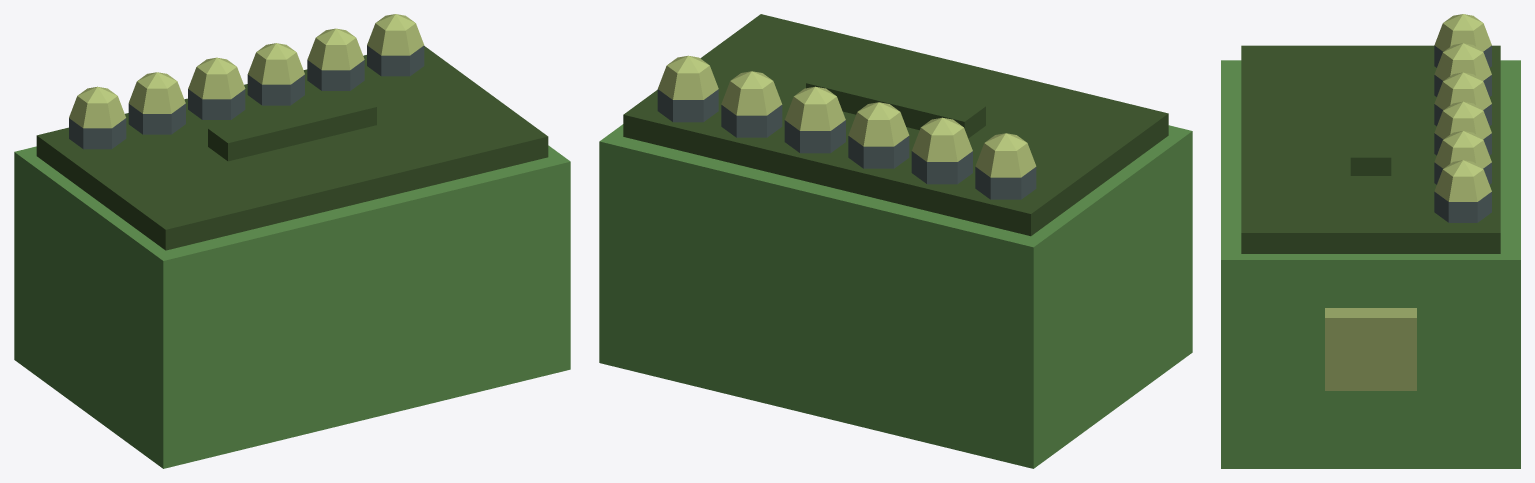
Rendered from ce_ammo2_grenade_tox_c.obj.
3 renders of one model, left to right at view 1: azimuth 30°, elevation 25°; view 2: azimuth 150°, elevation 25°; view 3: azimuth 270°, elevation 25°, orthographic. The views are drawn at different scales.
Parts seen in each view (by area): view 1: ce_ammo2_grenade_tox_c_0, ce_ammo2_grenade_tox_c_1, ce_ammo2_grenade_tox_c_2, ce_ammo2_grenade_tox_c_17, ce_ammo2_grenade_tox_c_5, ce_ammo2_grenade_tox_c_11, ce_ammo2_grenade_tox_c_14, ce_ammo2_grenade_tox_c_20, ce_ammo2_grenade_tox_c_8, ce_ammo2_grenade_tox_c_13, ce_ammo2_grenade_tox_c_19, ce_ammo2_grenade_tox_c_4 (+3 smaller); view 2: ce_ammo2_grenade_tox_c_0, ce_ammo2_grenade_tox_c_1, ce_ammo2_grenade_tox_c_2, ce_ammo2_grenade_tox_c_11, ce_ammo2_grenade_tox_c_17, ce_ammo2_grenade_tox_c_5, ce_ammo2_grenade_tox_c_20, ce_ammo2_grenade_tox_c_14, ce_ammo2_grenade_tox_c_8, ce_ammo2_grenade_tox_c_4, ce_ammo2_grenade_tox_c_7, ce_ammo2_grenade_tox_c_13 (+3 smaller); view 3: ce_ammo2_grenade_tox_c_0, ce_ammo2_grenade_tox_c_1, ce_ammo2_grenade_tox_c_3, ce_ammo2_grenade_tox_c_2, ce_ammo2_grenade_tox_c_20, ce_ammo2_grenade_tox_c_19, ce_ammo2_grenade_tox_c_5, ce_ammo2_grenade_tox_c_17, ce_ammo2_grenade_tox_c_14, ce_ammo2_grenade_tox_c_11, ce_ammo2_grenade_tox_c_8, ce_ammo2_grenade_tox_c_15 (+5 smaller).
Part boxes in pixels (x1,y1,x2,y2): ce_ammo2_grenade_tox_c_0: (14,145,570,468); ce_ammo2_grenade_tox_c_1: (36,46,548,250); ce_ammo2_grenade_tox_c_2: (208,92,376,161); ce_ammo2_grenade_tox_c_17: (307,38,364,70); ce_ammo2_grenade_tox_c_5: (69,96,125,128); ce_ammo2_grenade_tox_c_11: (188,67,245,99); ce_ammo2_grenade_tox_c_14: (248,52,304,84); ce_ammo2_grenade_tox_c_20: (367,23,423,55); ce_ammo2_grenade_tox_c_8: (128,81,185,113); ce_ammo2_grenade_tox_c_13: (247,74,304,105); ce_ammo2_grenade_tox_c_19: (367,45,424,76); ce_ammo2_grenade_tox_c_4: (69,118,126,149); ce_ammo2_grenade_tox_c_0: (599,124,1192,468); ce_ammo2_grenade_tox_c_1: (623,14,1168,236); ce_ammo2_grenade_tox_c_2: (806,67,985,138); ce_ammo2_grenade_tox_c_11: (848,112,909,146); ce_ammo2_grenade_tox_c_17: (721,81,782,115); ce_ammo2_grenade_tox_c_5: (975,143,1036,177); ce_ammo2_grenade_tox_c_20: (658,65,718,99); ce_ammo2_grenade_tox_c_14: (785,96,845,130); ce_ammo2_grenade_tox_c_8: (912,128,972,161); ce_ammo2_grenade_tox_c_4: (975,166,1036,199); ce_ammo2_grenade_tox_c_7: (911,151,972,184); ce_ammo2_grenade_tox_c_13: (784,120,845,153); ce_ammo2_grenade_tox_c_0: (1221,60,1520,468); ce_ammo2_grenade_tox_c_1: (1241,45,1500,253); ce_ammo2_grenade_tox_c_3: (1325,308,1416,390); ce_ammo2_grenade_tox_c_2: (1350,84,1391,175); ce_ammo2_grenade_tox_c_20: (1434,169,1491,201); ce_ammo2_grenade_tox_c_19: (1434,191,1491,222); ce_ammo2_grenade_tox_c_5: (1434,23,1491,51); ce_ammo2_grenade_tox_c_17: (1434,140,1491,168); ce_ammo2_grenade_tox_c_14: (1434,111,1491,139); ce_ammo2_grenade_tox_c_11: (1434,82,1491,110); ce_ammo2_grenade_tox_c_8: (1434,52,1491,80); ce_ammo2_grenade_tox_c_15: (1443,101,1483,118).
Size of the model in its own units: 0.86 by 0.54 by 0.52.
